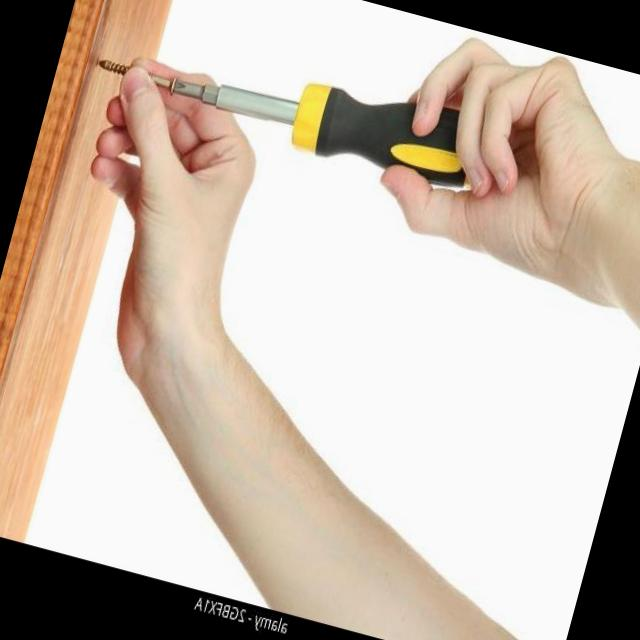screwdriver: (151, 75, 464, 187)
